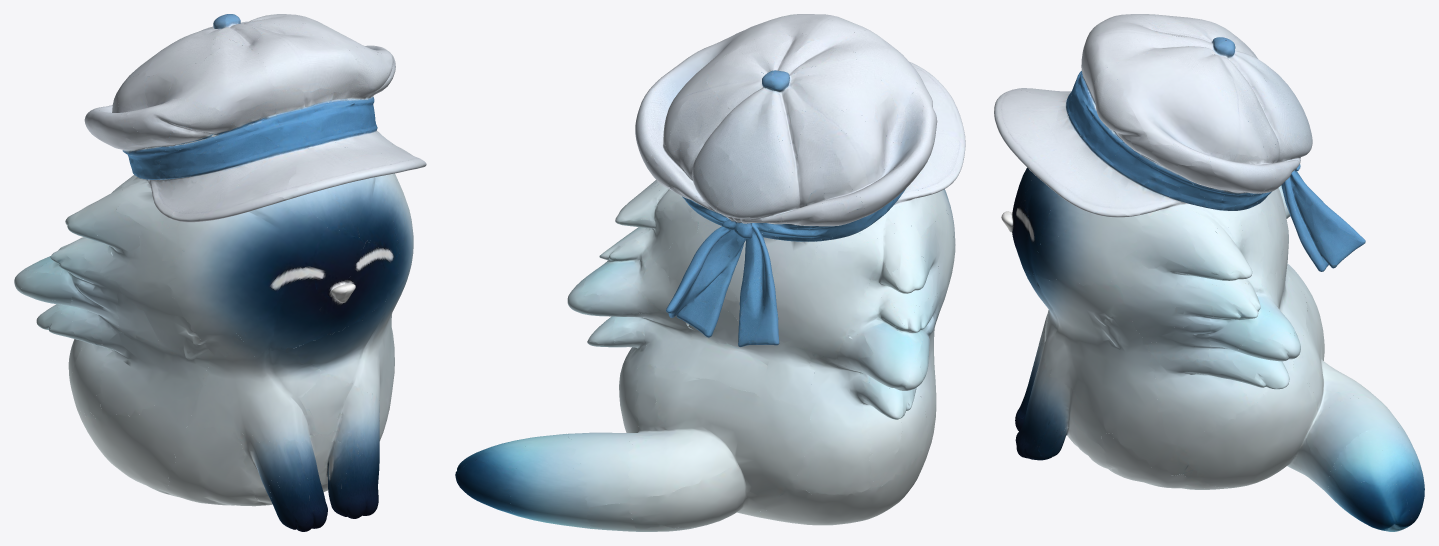
The model's file is sailor-hat-INDhFCac.glb.
The picture shows the model from 3 angles, left to right: view 1: azimuth 30°, elevation 25°; view 2: azimuth 150°, elevation 25°; view 3: azimuth 270°, elevation 25°; orthographic projection. The views are drawn at different scales.
Visible parts, largest first — view 1: worn-sailor-hat; view 2: worn-sailor-hat; view 3: worn-sailor-hat.
Boxes of the visible parts, x1,y1,x2,y2 form: worn-sailor-hat: [14, 14, 426, 531]; worn-sailor-hat: [455, 14, 965, 531]; worn-sailor-hat: [994, 14, 1424, 531].
Size of the model in its own units: 1.85 by 1.9 by 1.78.
1 material, 1 textured.
